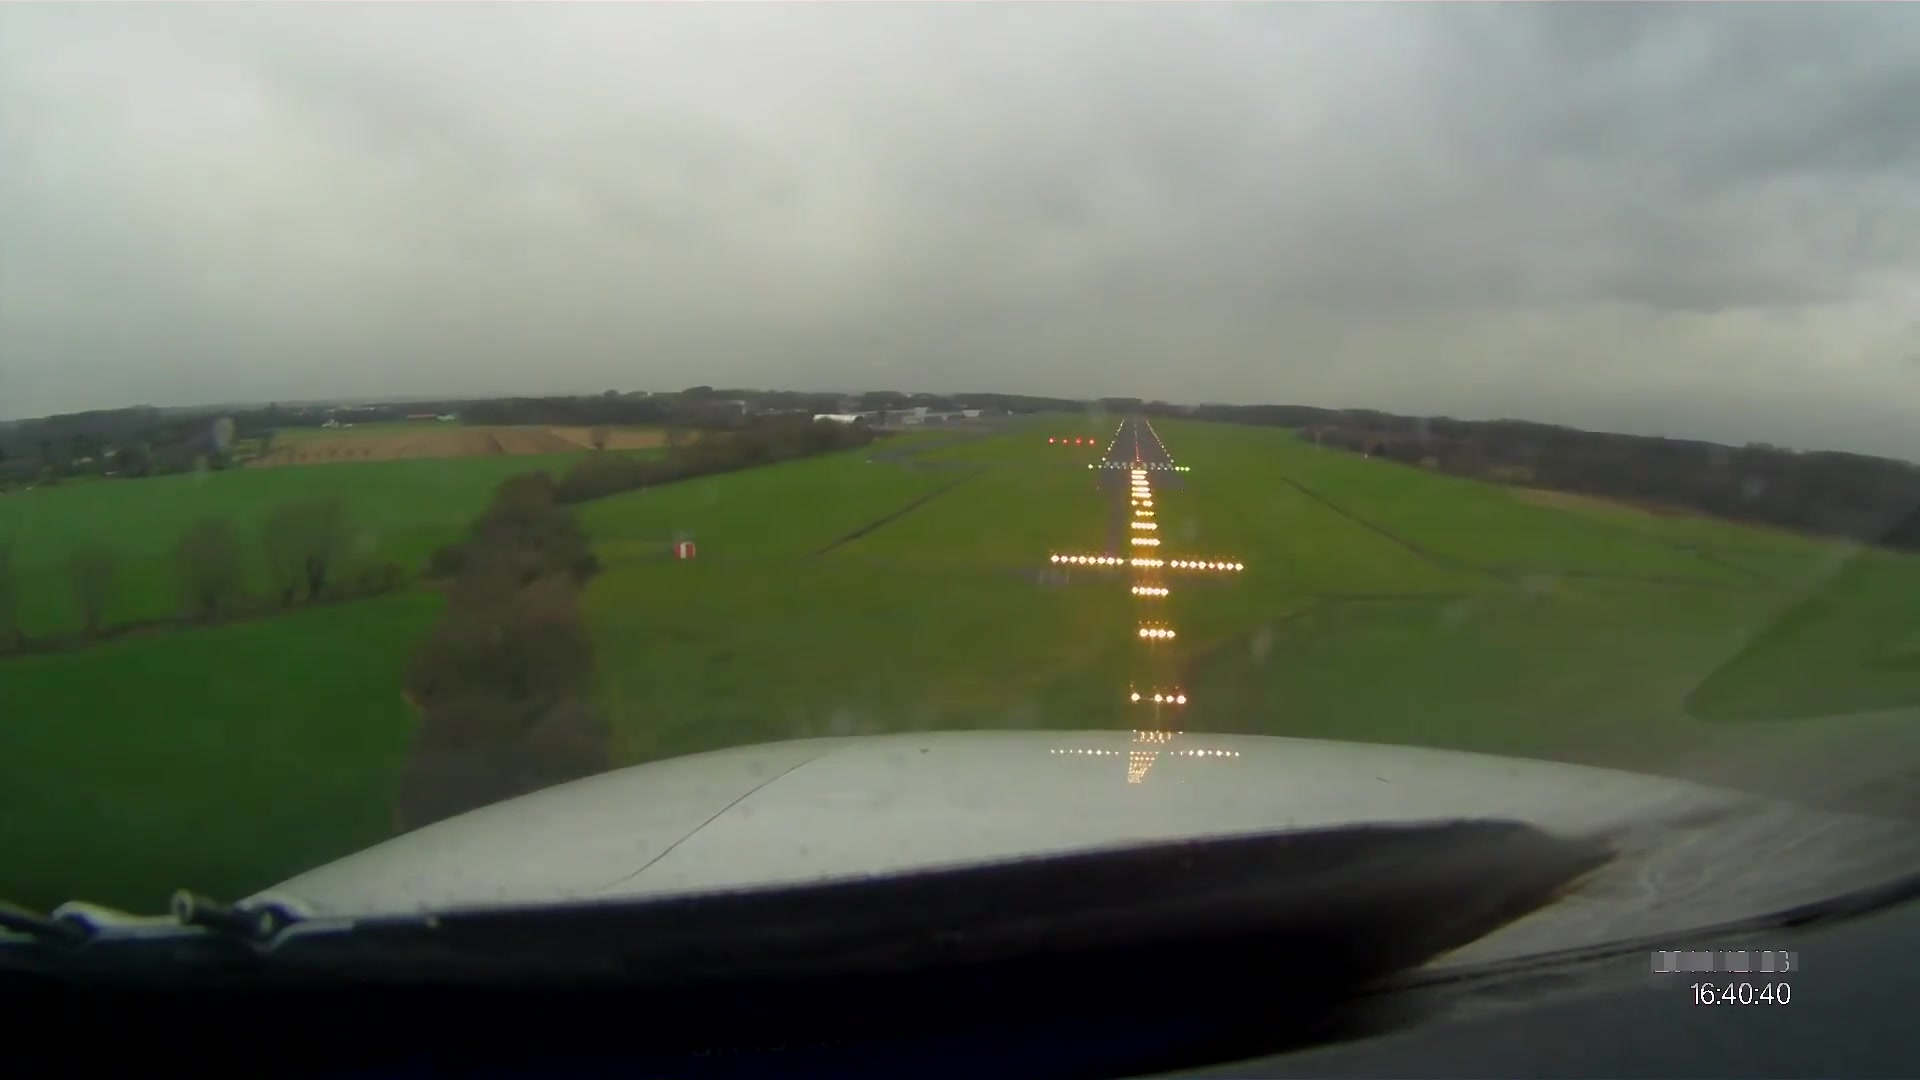runway: (1088, 411, 1182, 468)
